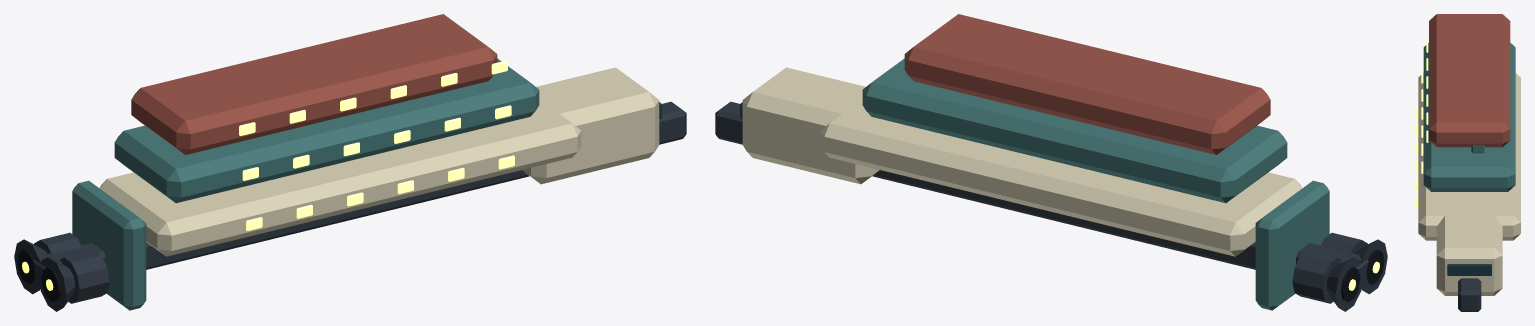
Rendered from evening-post.glb.
3 renders of one model, left to right at view 1: azimuth 30°, elevation 25°; view 2: azimuth 150°, elevation 25°; view 3: azimuth 270°, elevation 25°, orthographic. The views are drawn at different scales.
Parts seen in each view (by area): view 1: passenger deck.002, passenger deck, passenger deck.001, forward command, reactor shield, structural spine, engine jacket, engine bell, engine jacket.001, engine bell.001, engine throat; view 2: passenger deck.002, passenger deck, passenger deck.001, forward command, reactor shield, structural spine, engine jacket.001, engine bell.001, engine jacket, engine bell, engine throat.001; view 3: passenger deck.002, passenger deck.001, passenger deck, forward command, structural spine, bridge glazing, sensor head.
Boxes of the visible parts, left/top/right/bottom form: passenger deck.002: left=131, top=14, right=497, bottom=154; passenger deck: left=99, top=99, right=581, bottom=256; passenger deck.001: left=114, top=58, right=539, bottom=203; forward command: left=522, top=67, right=659, bottom=184; reactor shield: left=72, top=180, right=146, bottom=310; structural spine: left=33, top=101, right=686, bottom=289; engine jacket: left=60, top=250, right=109, bottom=303; engine bell: left=40, top=257, right=75, bottom=311; engine jacket.001: left=34, top=232, right=81, bottom=254; engine bell.001: left=14, top=239, right=46, bottom=294; engine throat: left=41, top=267, right=60, bottom=302; passenger deck.002: left=904, top=14, right=1270, bottom=154; passenger deck: left=820, top=100, right=1302, bottom=256; passenger deck.001: left=862, top=58, right=1287, bottom=203; forward command: left=742, top=67, right=879, bottom=184; reactor shield: left=1255, top=180, right=1329, bottom=310; structural spine: left=715, top=101, right=1368, bottom=289; engine jacket.001: left=1292, top=250, right=1341, bottom=303; engine bell.001: left=1326, top=257, right=1361, bottom=311; engine jacket: left=1320, top=232, right=1367, bottom=254; engine bell: left=1355, top=239, right=1387, bottom=294; engine throat.001: left=1341, top=267, right=1360, bottom=302; passenger deck.002: left=1429, top=14, right=1510, bottom=147; passenger deck.001: left=1423, top=43, right=1515, bottom=191; passenger deck: left=1418, top=73, right=1520, bottom=240; forward command: left=1436, top=209, right=1502, bottom=295; structural spine: left=1458, top=278, right=1481, bottom=311; bridge glazing: left=1447, top=264, right=1491, bottom=275; sensor head: left=1471, top=145, right=1484, bottom=153.
Size of the model in its own units: 12.76 by 3.27 by 2.46.
